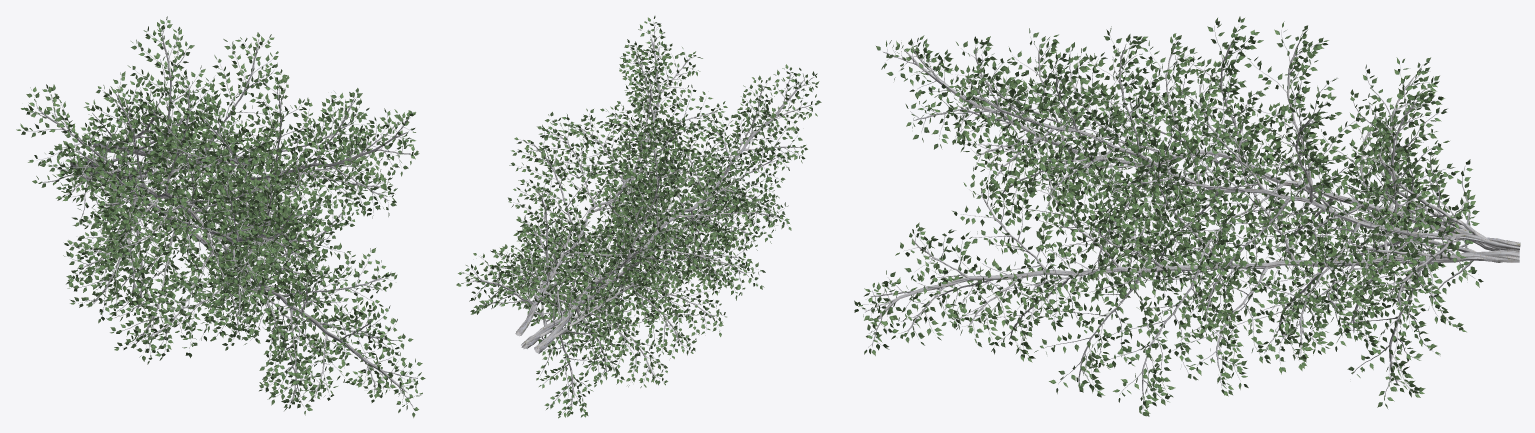
3 renders of one model, left to right at view 1: azimuth 30°, elevation 25°; view 2: azimuth 150°, elevation 25°; view 3: azimuth 270°, elevation 25°, orthographic. The views are drawn at different scales.
Visible parts, largest first — view 1: BL03a; view 2: BL03a; view 3: BL03a.
Part boxes in pixels (<box>): BL03a: <box>16,16,425,417</box>; BL03a: <box>456,16,821,418</box>; BL03a: <box>854,16,1520,416</box>.
Bounding box in the file's own units: 7.1 × 7.85 × 12.19.
Materials: 2 (2 with a texture image).
